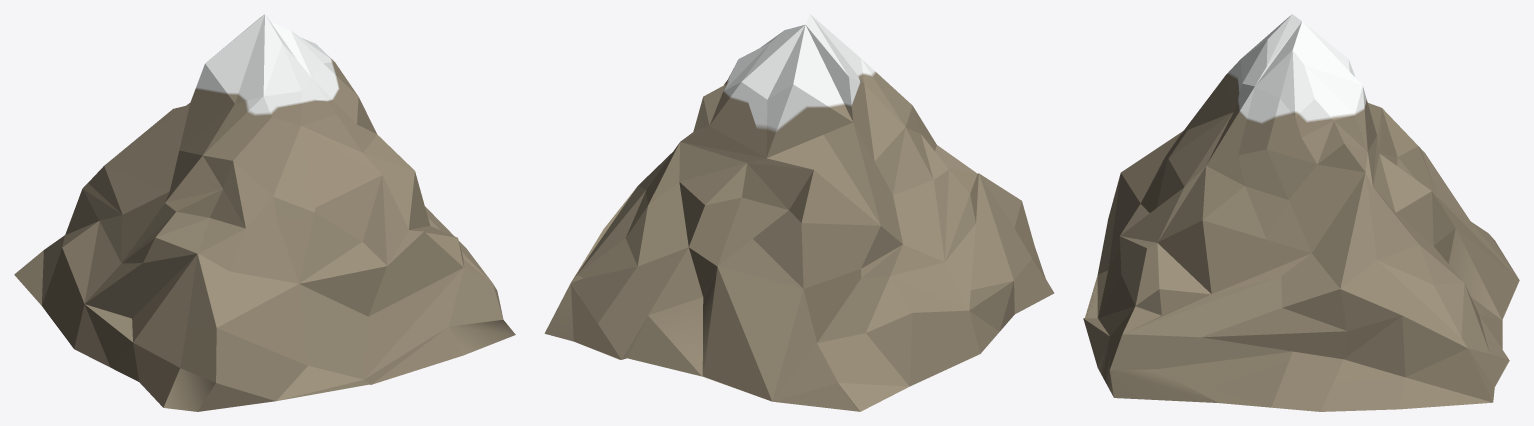
File: Mountain.glb
3 renders of one model, left to right at view 1: azimuth 30°, elevation 25°; view 2: azimuth 150°, elevation 25°; view 3: azimuth 270°, elevation 25°, orthographic. The views are drawn at different scales.
Parts seen in each view (by area): view 1: Cube_0; view 2: Cube_0; view 3: Cube_0.
Boxes of the visible parts, x1,y1,x2,y2 form: Cube_0: (14,14,515,411); Cube_0: (544,14,1054,411); Cube_0: (1083,14,1519,411).
Bounding box in the file's own units: 2.18 × 1.65 × 2.16.
Materials: 1 (1 with a texture image).
